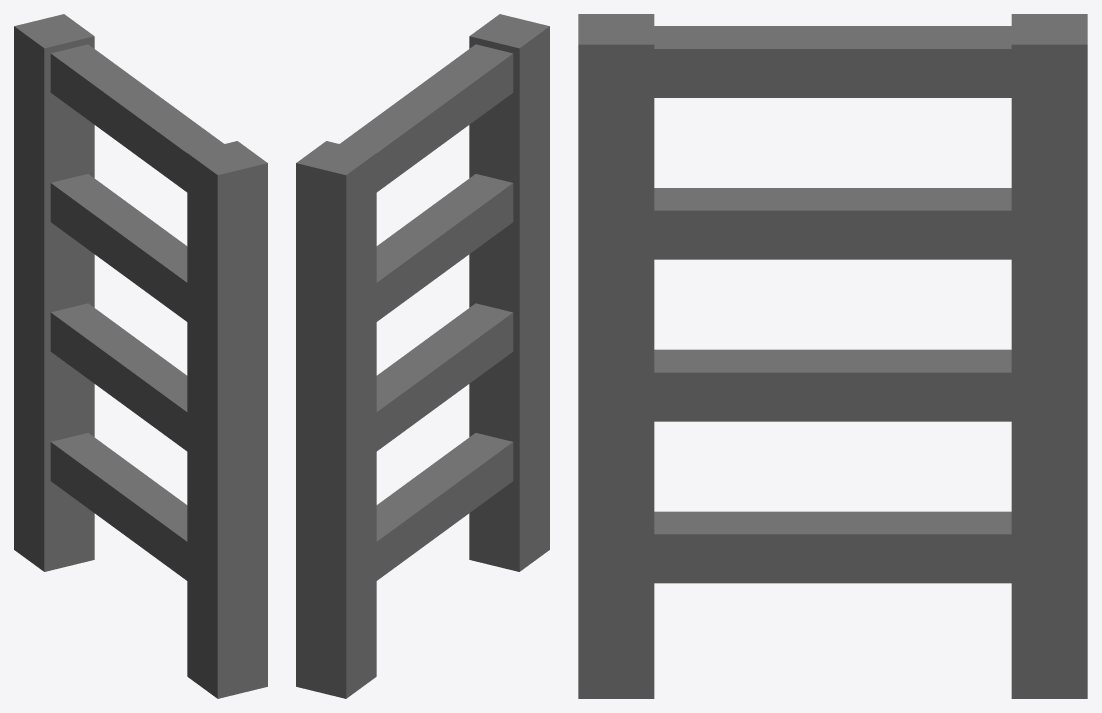
Rendered from Ladder.fbx.
3 renders of one model, left to right at view 1: azimuth 30°, elevation 25°; view 2: azimuth 150°, elevation 25°; view 3: azimuth 270°, elevation 25°, orthographic. The views are drawn at different scales.
Parts seen in each view (by area): view 1: Ladder; view 2: Ladder; view 3: Ladder.
Part boxes in pixels (x1,y1,x2,y2): Ladder: [14, 14, 267, 698]; Ladder: [296, 14, 549, 698]; Ladder: [578, 14, 1087, 698].
Size of the model in its own units: 10 by 100 by 70.5.
Materials: 1 (1 with a texture image).
